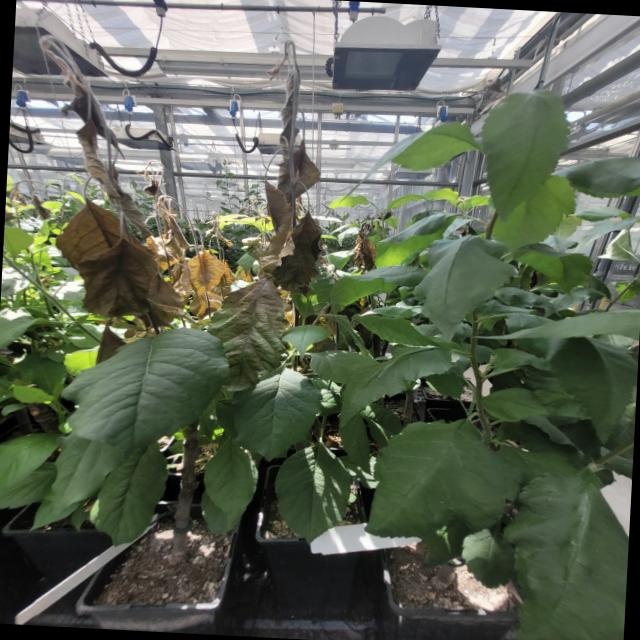-FireBlight-: (26, 17, 331, 374)
